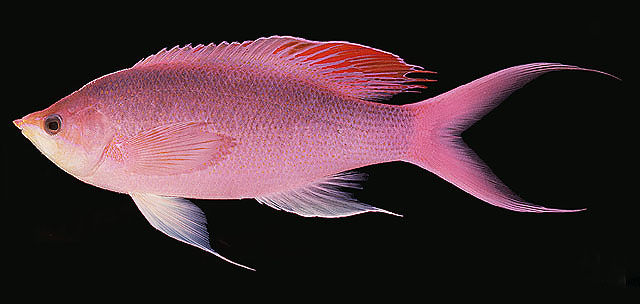fish: (12, 34, 622, 271)
